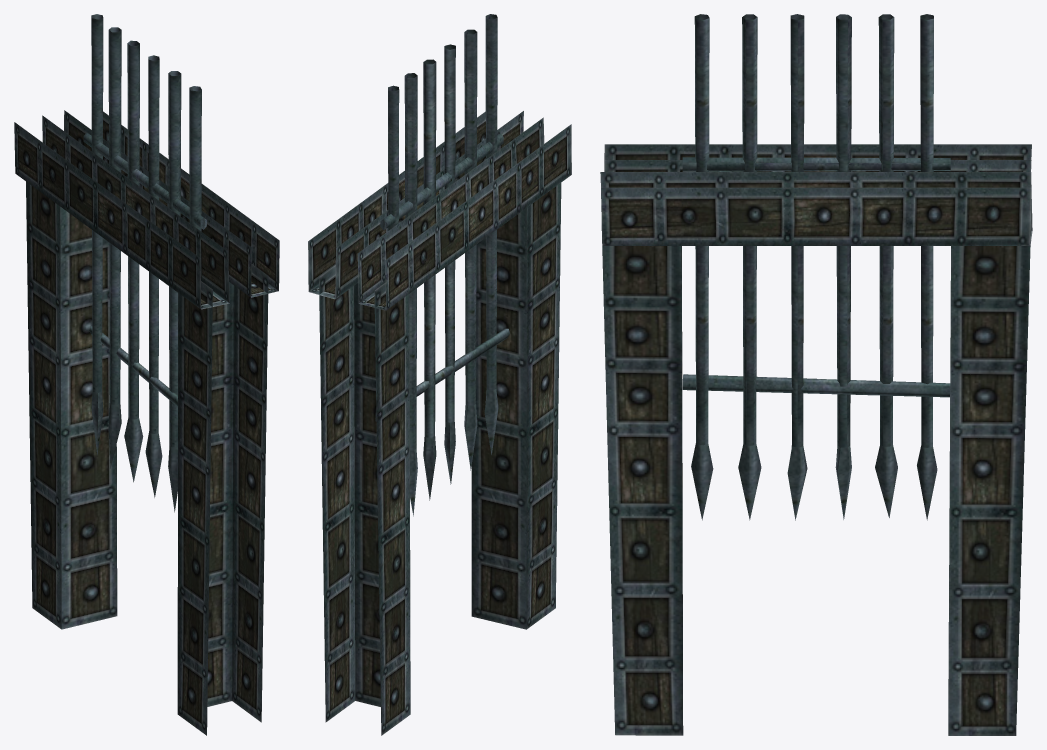
File: Bossdoor.fbx
3 renders of one model, left to right at view 1: azimuth 30°, elevation 25°; view 2: azimuth 150°, elevation 25°; view 3: azimuth 270°, elevation 25°, orthographic. The views are drawn at different scales.
Visible parts, largest first — view 1: doors_base_small_02, doors_small_02; view 2: doors_base_small_02, doors_small_02; view 3: doors_base_small_02, doors_small_02.
Boxes of the visible parts, x1,y1,x2,y2 form: doors_base_small_02: (14,110,279,735); doors_small_02: (83,14,206,512); doors_base_small_02: (308,111,571,735); doors_small_02: (375,14,509,516); doors_base_small_02: (600,144,1032,735); doors_small_02: (682,14,950,520).
Size of the model in its own units: 46.99 by 356 by 198.
